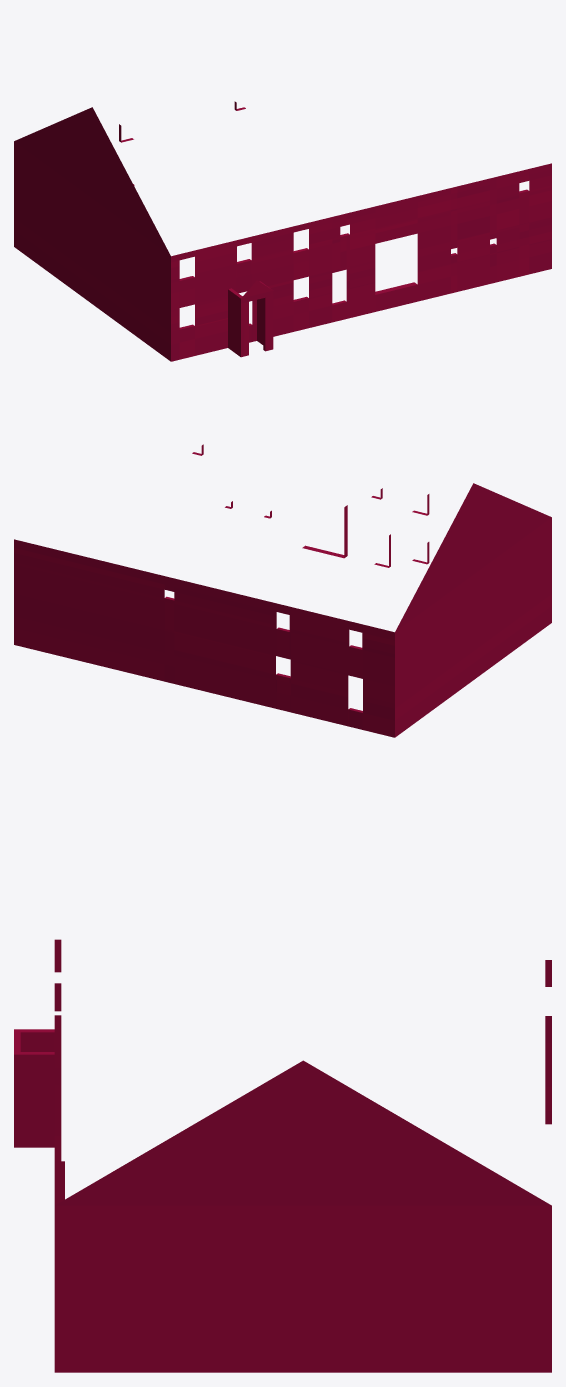
File: SM_Bld_051_Masonry.glb
3 renders of one model, top to bottom at view 1: azimuth 30°, elevation 25°; view 2: azimuth 150°, elevation 25°; view 3: azimuth 270°, elevation 25°, orthographic. The views are drawn at different scales.
Visible parts, largest first — view 1: SM_Bld_051_Masonry; view 2: SM_Bld_051_Masonry; view 3: SM_Bld_051_Masonry.
Boxes of the visible parts, x1,y1,x2,y2 form: SM_Bld_051_Masonry: (14,101,551,361); SM_Bld_051_Masonry: (14,444,551,737); SM_Bld_051_Masonry: (14,939,551,1372).
Bounding box in the file's own units: 23.41 × 11.58 × 18.09.
